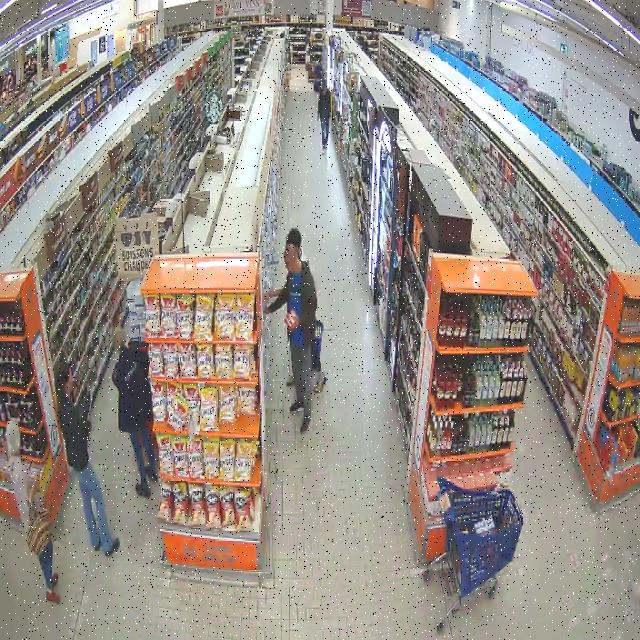article: (284, 310, 299, 331)
hands: (264, 290, 277, 302), (318, 114, 319, 121)
person: (55, 362, 119, 556), (266, 243, 316, 433), (112, 330, 157, 498), (5, 419, 43, 537), (27, 523, 58, 602), (317, 82, 331, 152), (285, 228, 307, 261)
